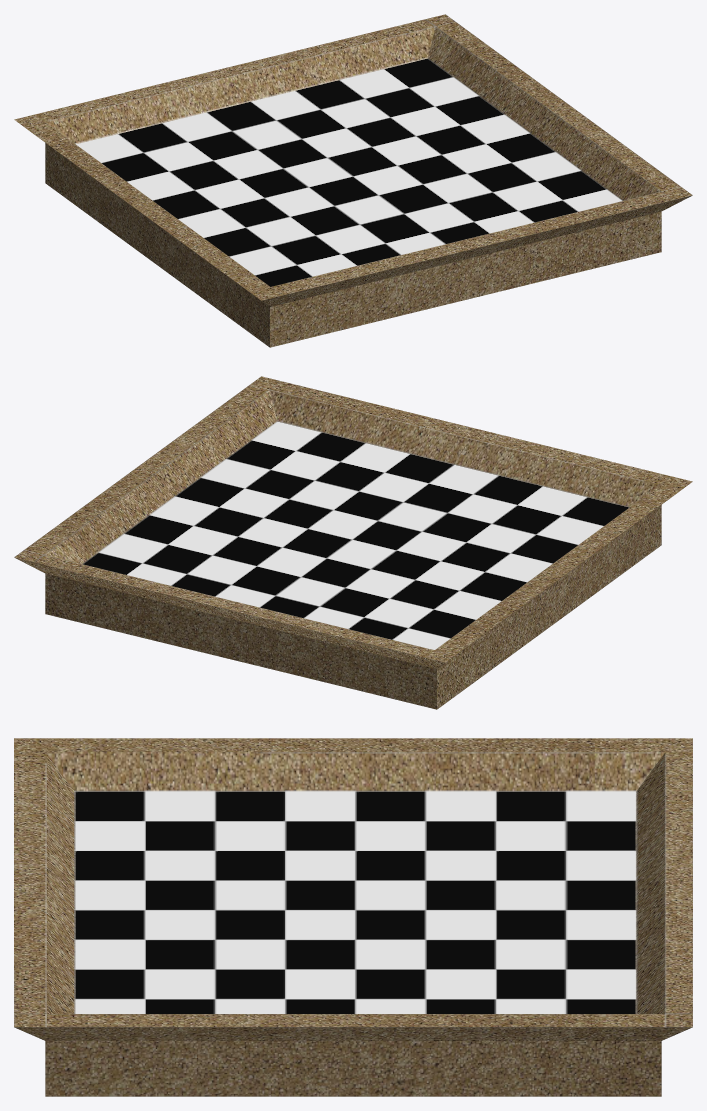
The model's file is board.fbx.
The picture shows the model from 3 angles, top to bottom: view 1: azimuth 30°, elevation 25°; view 2: azimuth 150°, elevation 25°; view 3: azimuth 270°, elevation 25°; orthographic projection. The views are drawn at different scales.
Visible parts, largest first — view 1: pCube10; view 2: pCube10; view 3: pCube10.
Boxes of the visible parts, left/top/right/bottom form: pCube10: left=14, top=14, right=692, bottom=347; pCube10: left=14, top=376, right=692, bottom=709; pCube10: left=14, top=738, right=692, bottom=1096.
Size of the model in its own units: 24.63 by 3.29 by 24.46.
Materials: 1 (1 with a texture image).
